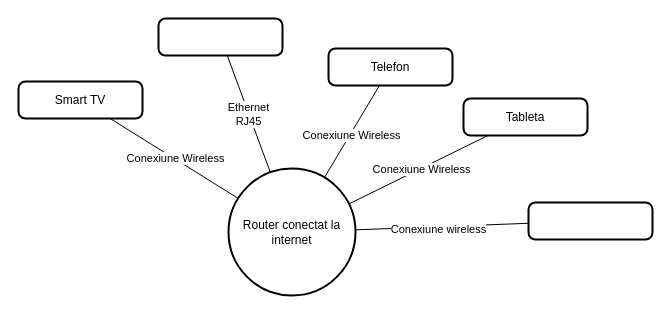
Image size: 670x313. Some labels were removed from this diagram. Here are the shapes that lost their labels. From the top down, the box of each, then its label:
(157, 17, 283, 56): Laptop personal
(527, 201, 653, 240): SmartWatch
